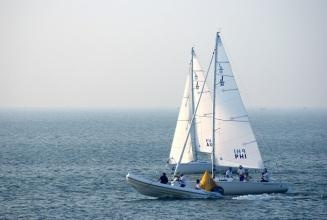fanchuan: (126, 30, 289, 198)
